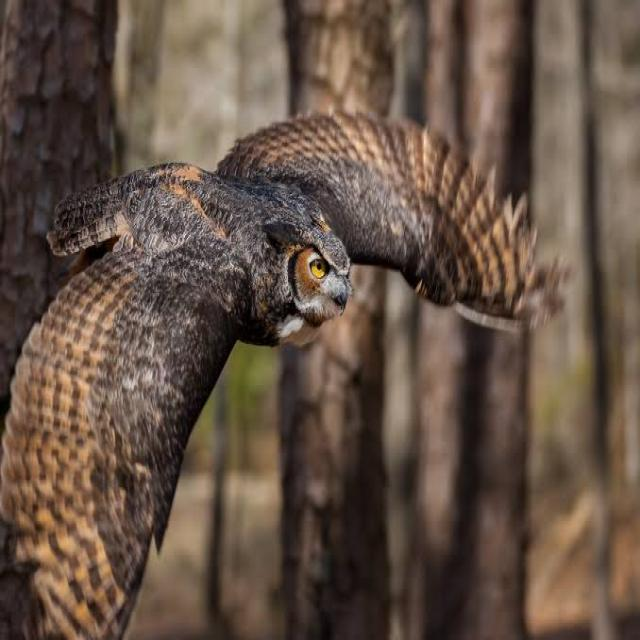Great Horned Owl: (40, 91, 552, 591)
